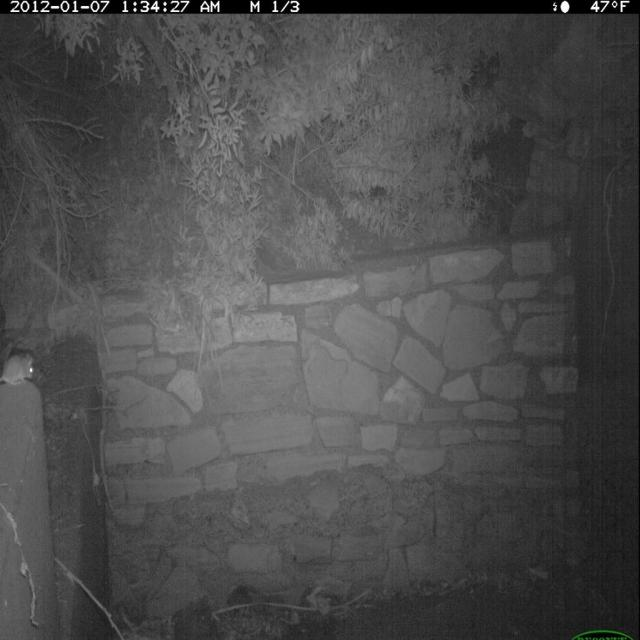rodent: (1, 348, 39, 391)
